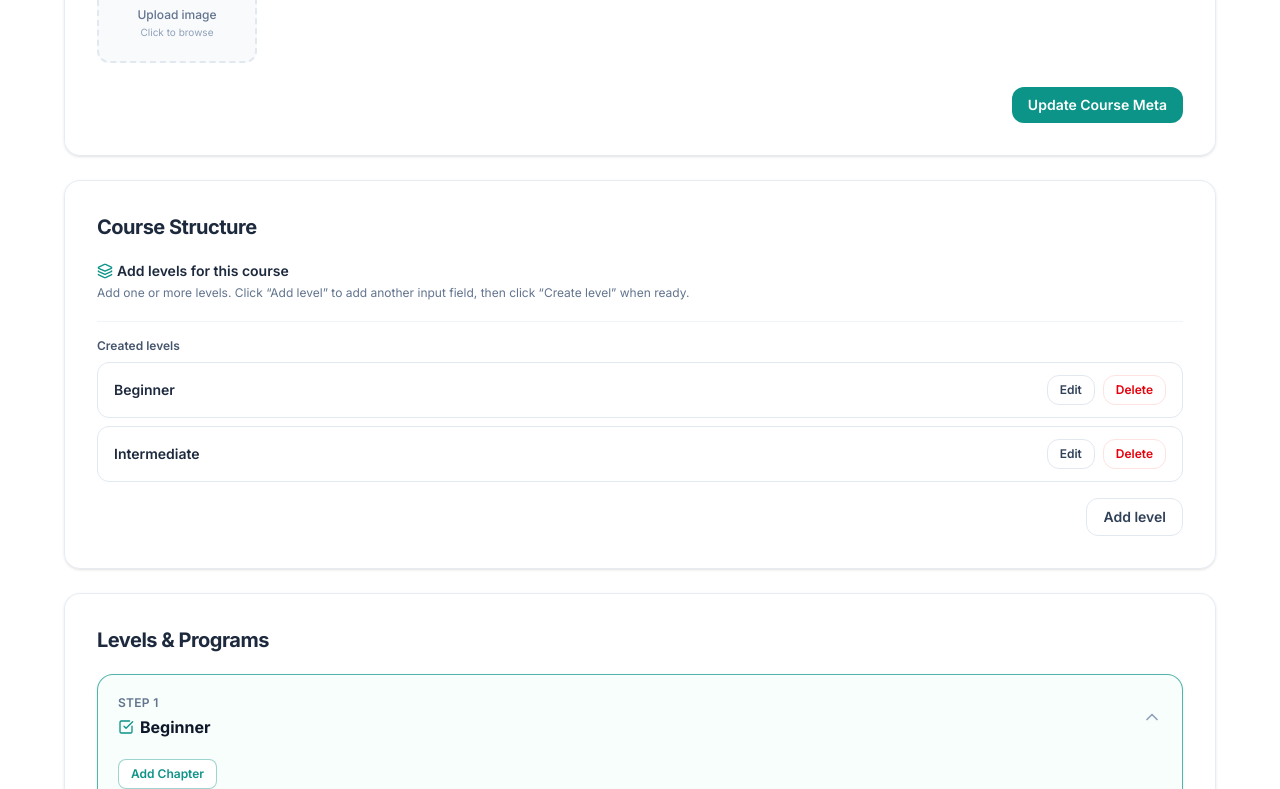
Test case: InstituteAdminCourseBuilder – levels panel (with API modules) › opens level edit modal when Edit button is clicked
This screenshot has width=1280, height=789.
(page scrolled)
Expected: the text "Beginner" is shown, [114,380,175,400]
Click the 1st button "Edit" at (1071, 390), box [1047,374,1095,404]
(page scrolled)
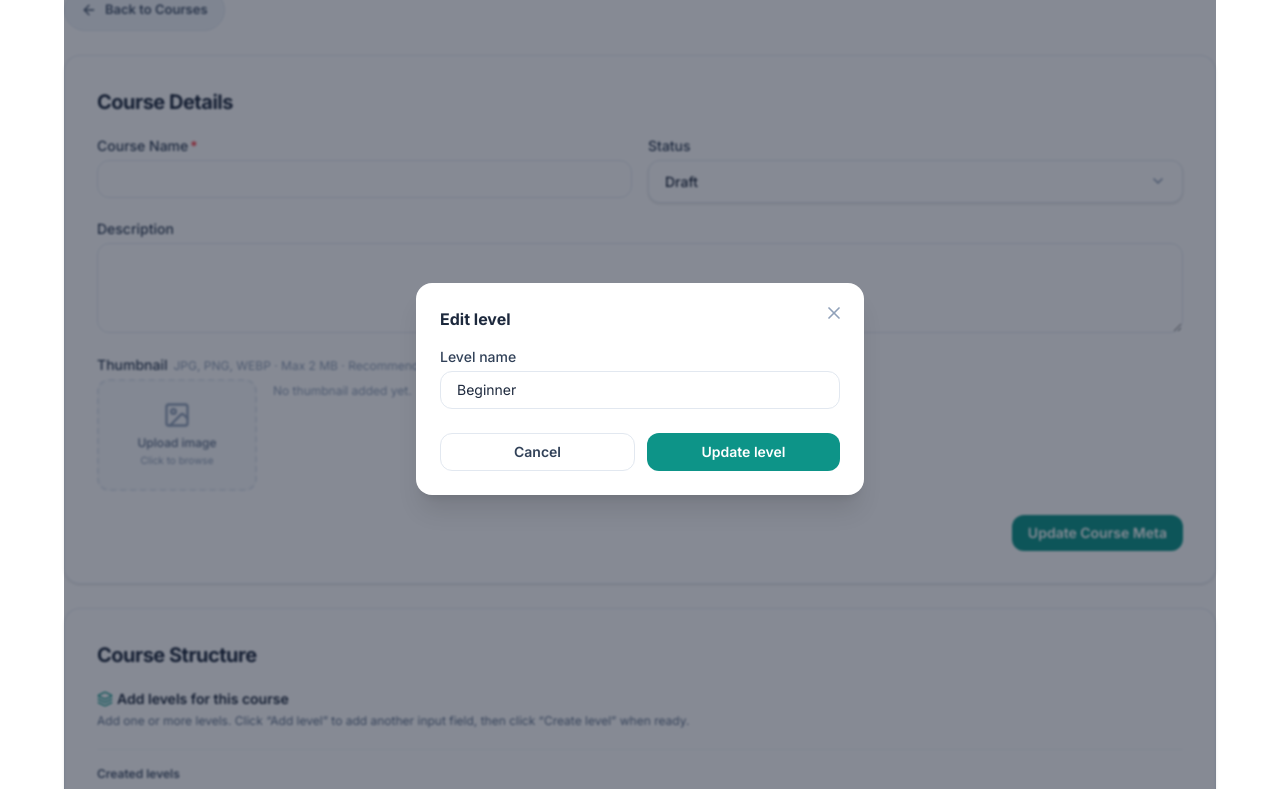
Expected: the heading "Edit level" is shown, [440,309,510,329]
